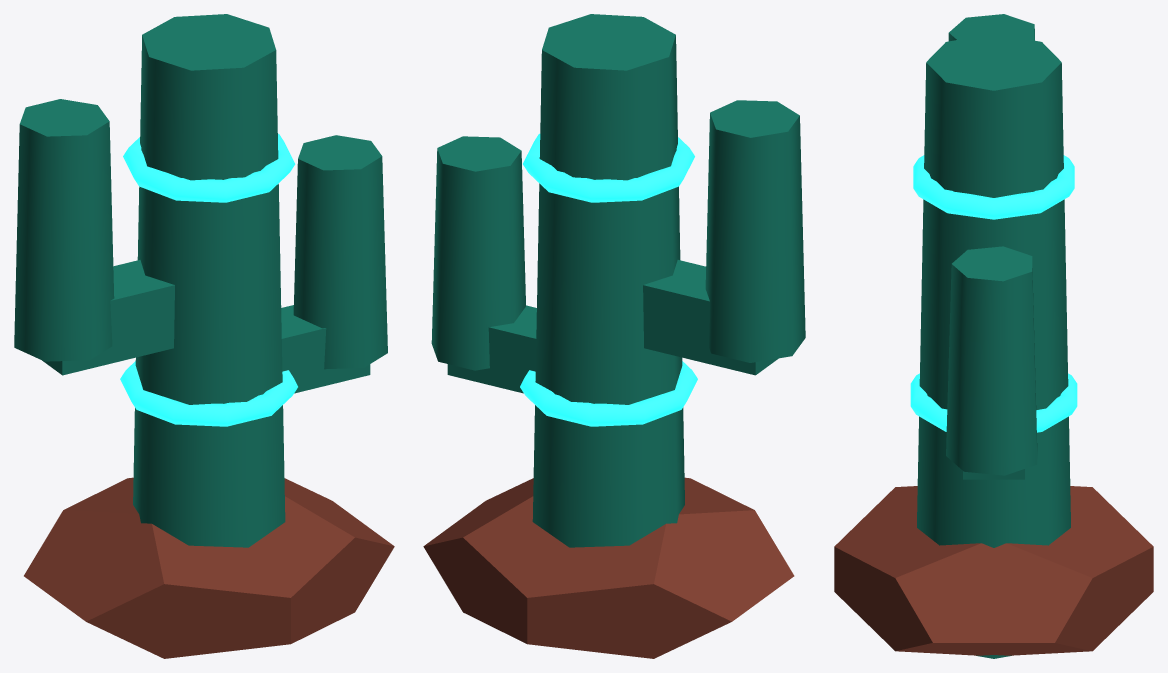
Rendered from prop_cactus.glb.
The picture shows the model from 3 angles, left to right: view 1: azimuth 30°, elevation 25°; view 2: azimuth 150°, elevation 25°; view 3: azimuth 270°, elevation 25°; orthographic projection. The views are drawn at different scales.
Visible parts, largest first — view 1: trunk, base_rock, arm_l_v, arm_r_v, arm_l_h, neon_ring_1, neon_ring_2, arm_r_h; view 2: trunk, base_rock, arm_l_v, arm_r_v, arm_l_h, neon_ring_1, neon_ring_2, arm_r_h; view 3: trunk, base_rock, arm_r_v, neon_ring_1, neon_ring_2, arm_l_v.
Part boxes in pixels (x1=…): trunk: x1=133, y1=14, x2=285, y2=547; base_rock: x1=24, y1=477, x2=394, y2=658; arm_l_v: x1=14, y1=99, x2=114, y2=361; arm_r_v: x1=293, y1=135, x2=387, y2=369; arm_l_h: x1=42, y1=260, x2=174, y2=375; neon_ring_1: x1=123, y1=133, x2=295, y2=202; neon_ring_2: x1=120, y1=361, x2=297, y2=426; arm_r_h: x1=281, y1=305, x2=370, y2=393; trunk: x1=532, y1=14, x2=684, y2=547; base_rock: x1=423, y1=477, x2=794, y2=658; arm_l_v: x1=705, y1=100, x2=805, y2=362; arm_r_v: x1=431, y1=136, x2=525, y2=370; arm_l_h: x1=643, y1=260, x2=778, y2=375; neon_ring_1: x1=523, y1=133, x2=694, y2=202; neon_ring_2: x1=520, y1=361, x2=697, y2=426; arm_r_h: x1=447, y1=305, x2=536, y2=393; trunk: x1=917, y1=33, x2=1070, y2=658; base_rock: x1=834, y1=486, x2=1153, y2=655; arm_r_v: x1=946, y1=246, x2=1037, y2=475; neon_ring_1: x1=913, y1=155, x2=1074, y2=219; neon_ring_2: x1=910, y1=373, x2=1077, y2=432; arm_l_v: x1=948, y1=14, x2=1034, y2=41.
Size of the model in its own units: 1.44 by 2.21 by 1.13.
